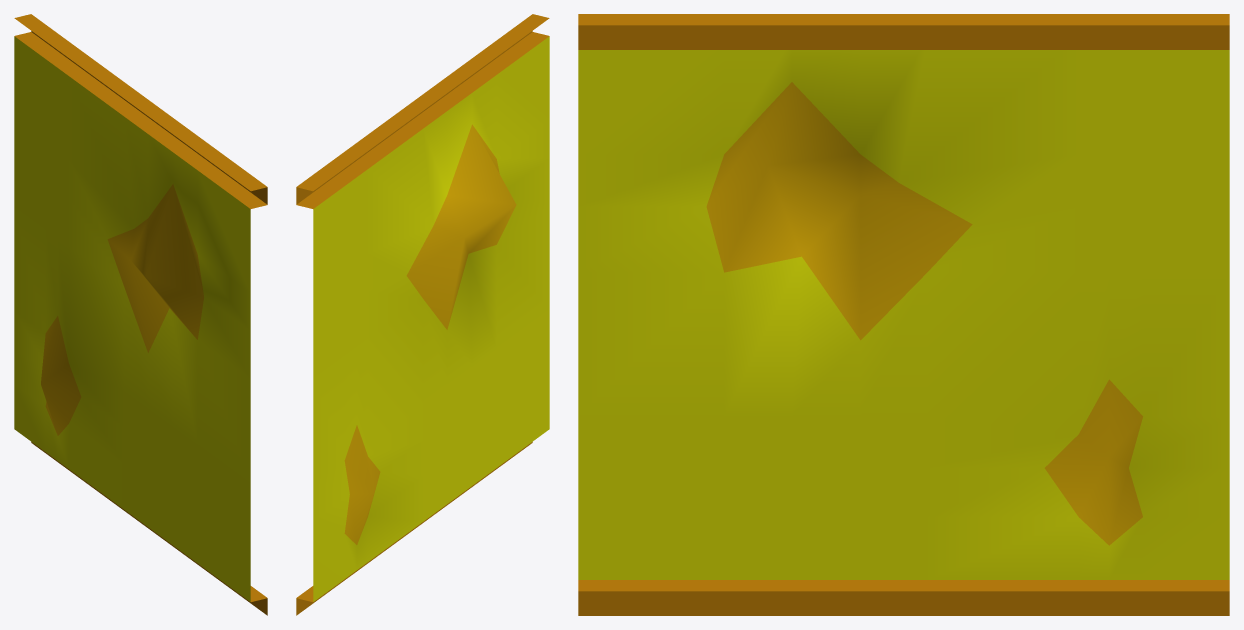
File: Mesh_Wall_Broken_b01.fbx
3 renders of one model, left to right at view 1: azimuth 30°, elevation 25°; view 2: azimuth 150°, elevation 25°; view 3: azimuth 270°, elevation 25°, orthographic. The views are drawn at different scales.
Parts seen in each view (by area): view 1: Mesh_Wall_Broken_b01; view 2: Mesh_Wall_Broken_b01; view 3: Mesh_Wall_Broken_b01.
Part boxes in pixels (x1,y1,x2,y2): Mesh_Wall_Broken_b01: [14, 14, 267, 615]; Mesh_Wall_Broken_b01: [296, 14, 549, 615]; Mesh_Wall_Broken_b01: [578, 14, 1229, 615].
Bounding box in the file's own units: 3.09 × 24 × 24.
